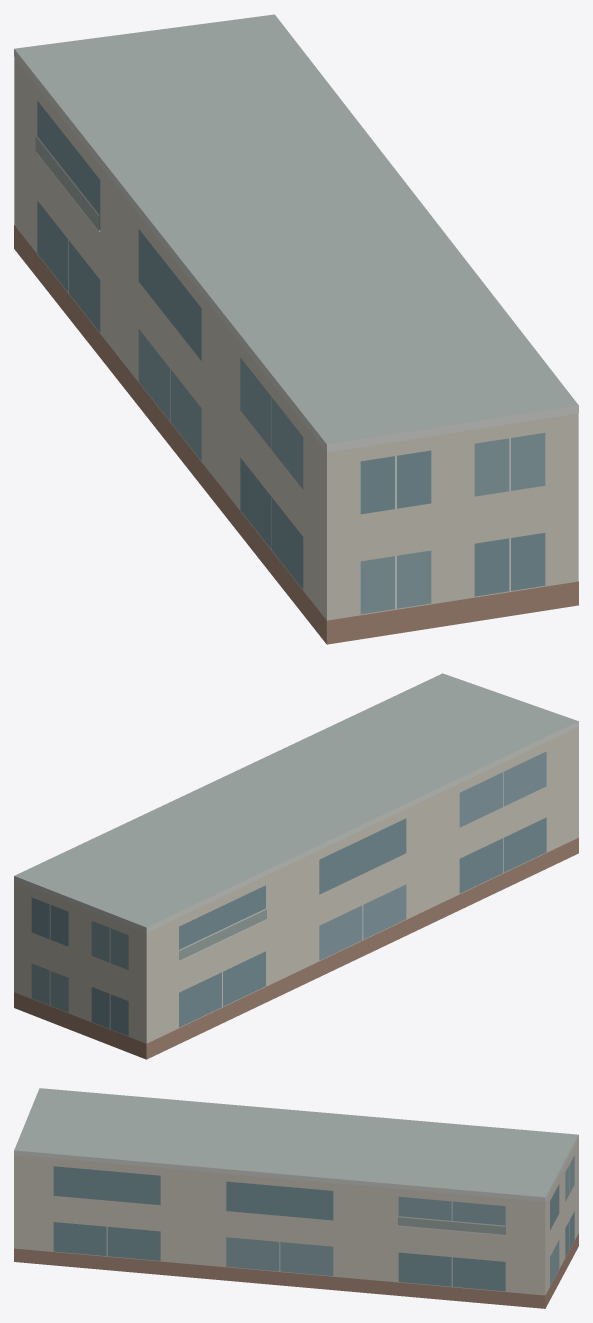
Rendered from survey-upis-33007469.glb.
3 renders of one model, top to bottom at view 1: azimuth 30°, elevation 25°; view 2: azimuth 150°, elevation 25°; view 3: azimuth 270°, elevation 25°, orthographic. The views are drawn at different scales.
Parts seen in each view (by area): view 1: survey-upis-33007469.tmp; view 2: survey-upis-33007469.tmp; view 3: survey-upis-33007469.tmp.
Part boxes in pixels (<box>): survey-upis-33007469.tmp: <box>14,14,578,644</box>; survey-upis-33007469.tmp: <box>14,673,578,1059</box>; survey-upis-33007469.tmp: <box>14,1088,578,1308</box>.
Size of the model in its own units: 12.83 by 6.1 by 28.02.
